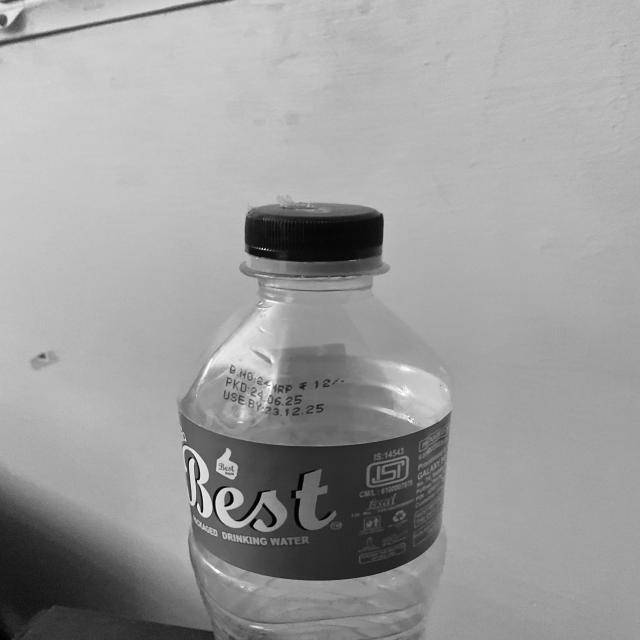Good-cap-Df0S: (238, 197, 388, 275)
